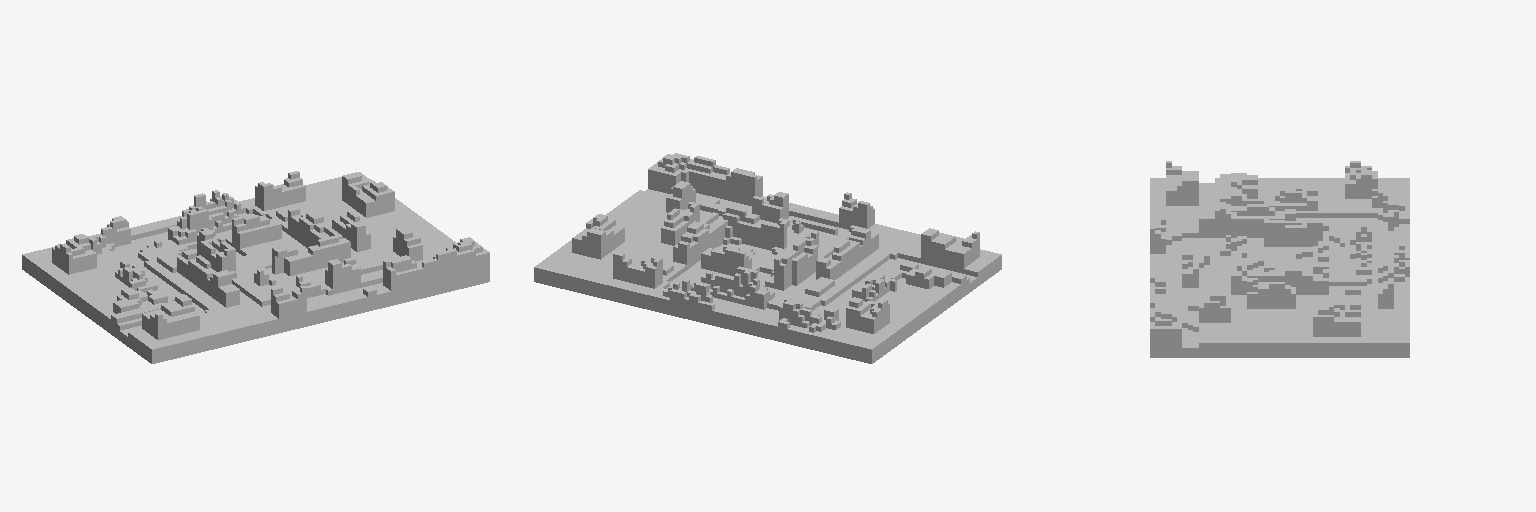
The model's file is Map.obj.
3 views of the same model, side by side, from view 1: azimuth 30°, elevation 25°; view 2: azimuth 150°, elevation 25°; view 3: azimuth 270°, elevation 25° (orthographic).
Visible parts, largest first — view 1: object 1; view 2: object 1; view 3: object 1.
Part boxes in pixels (x1,y1,x2,y2): object 1: (22,171,489,363); object 1: (534,153,1001,363); object 1: (1150,161,1409,357).
Size of the model in its own units: 7.2 by 0.8 by 4.8.